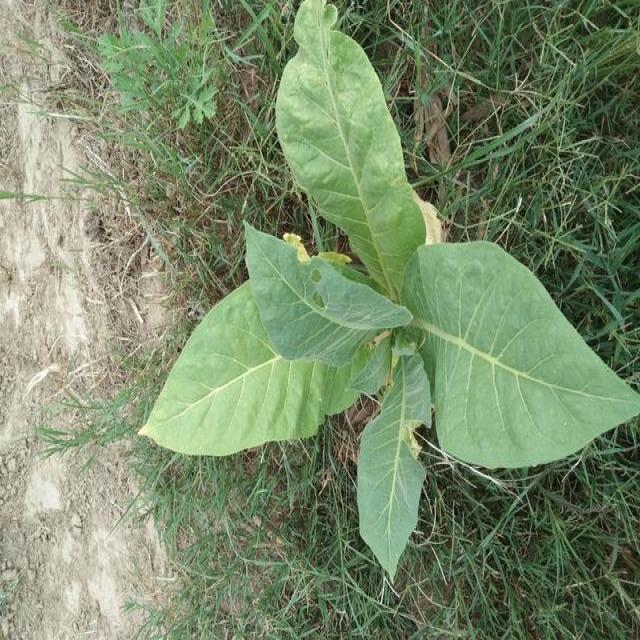crop: (139, 4, 640, 576)
